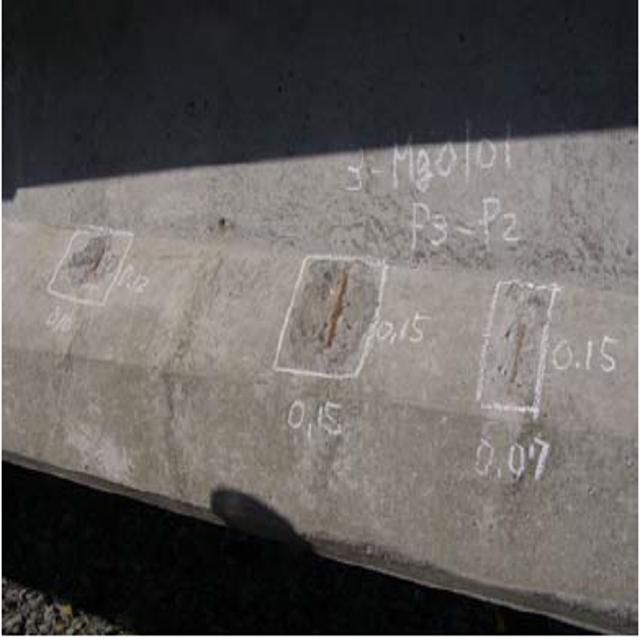spalling: (268, 244, 393, 386), (476, 280, 567, 429), (45, 210, 128, 313)
